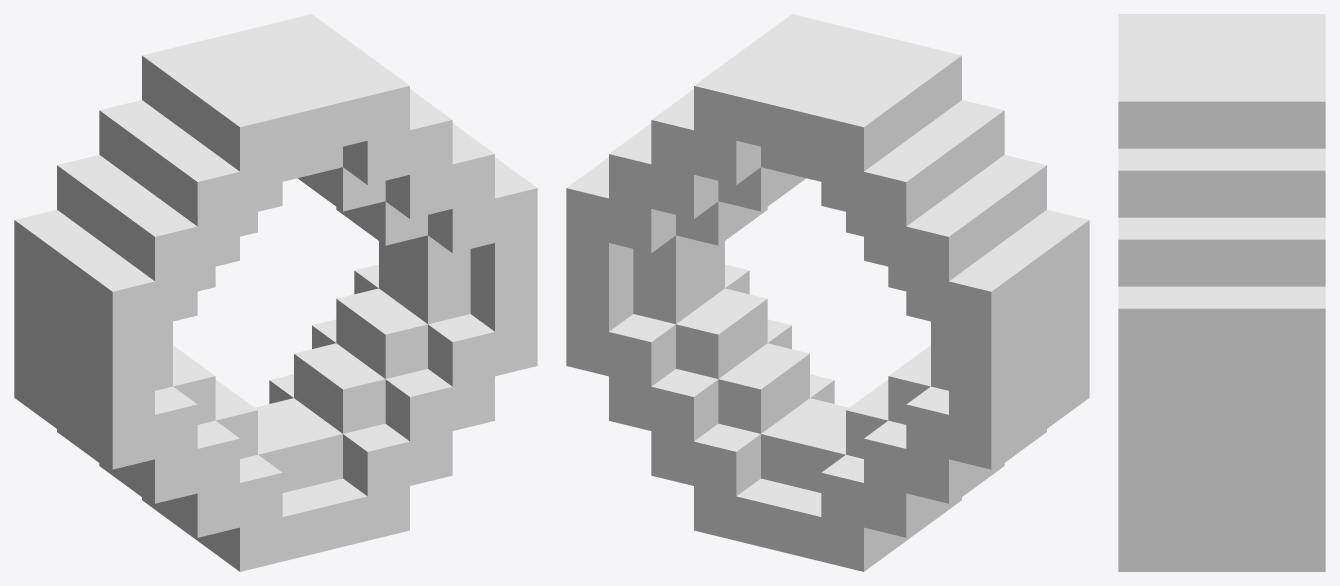
File: switch_no.obj
3 views of the same model, side by side, from view 1: azimuth 30°, elevation 25°; view 2: azimuth 150°, elevation 25°; view 3: azimuth 270°, elevation 25° (orthographic). The views are drawn at different scales.
Bounding box in the file's own units: 1 × 1 × 0.4.
Materials: 1 (1 with a texture image).
